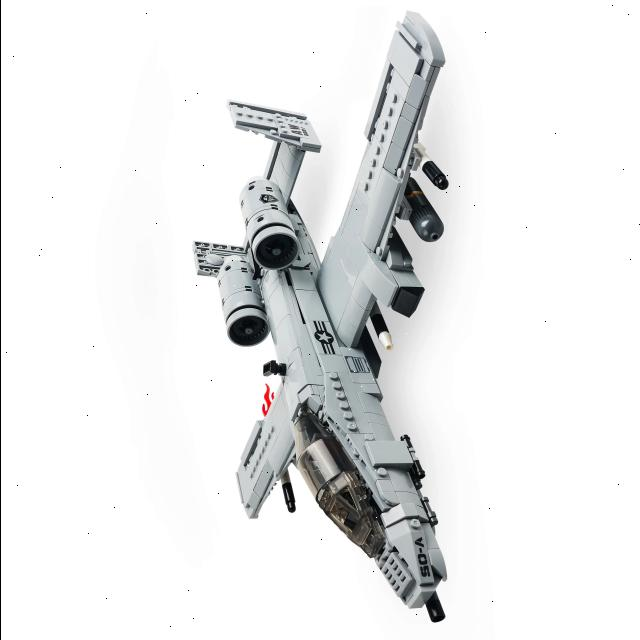A10: (193, 4, 498, 634)
